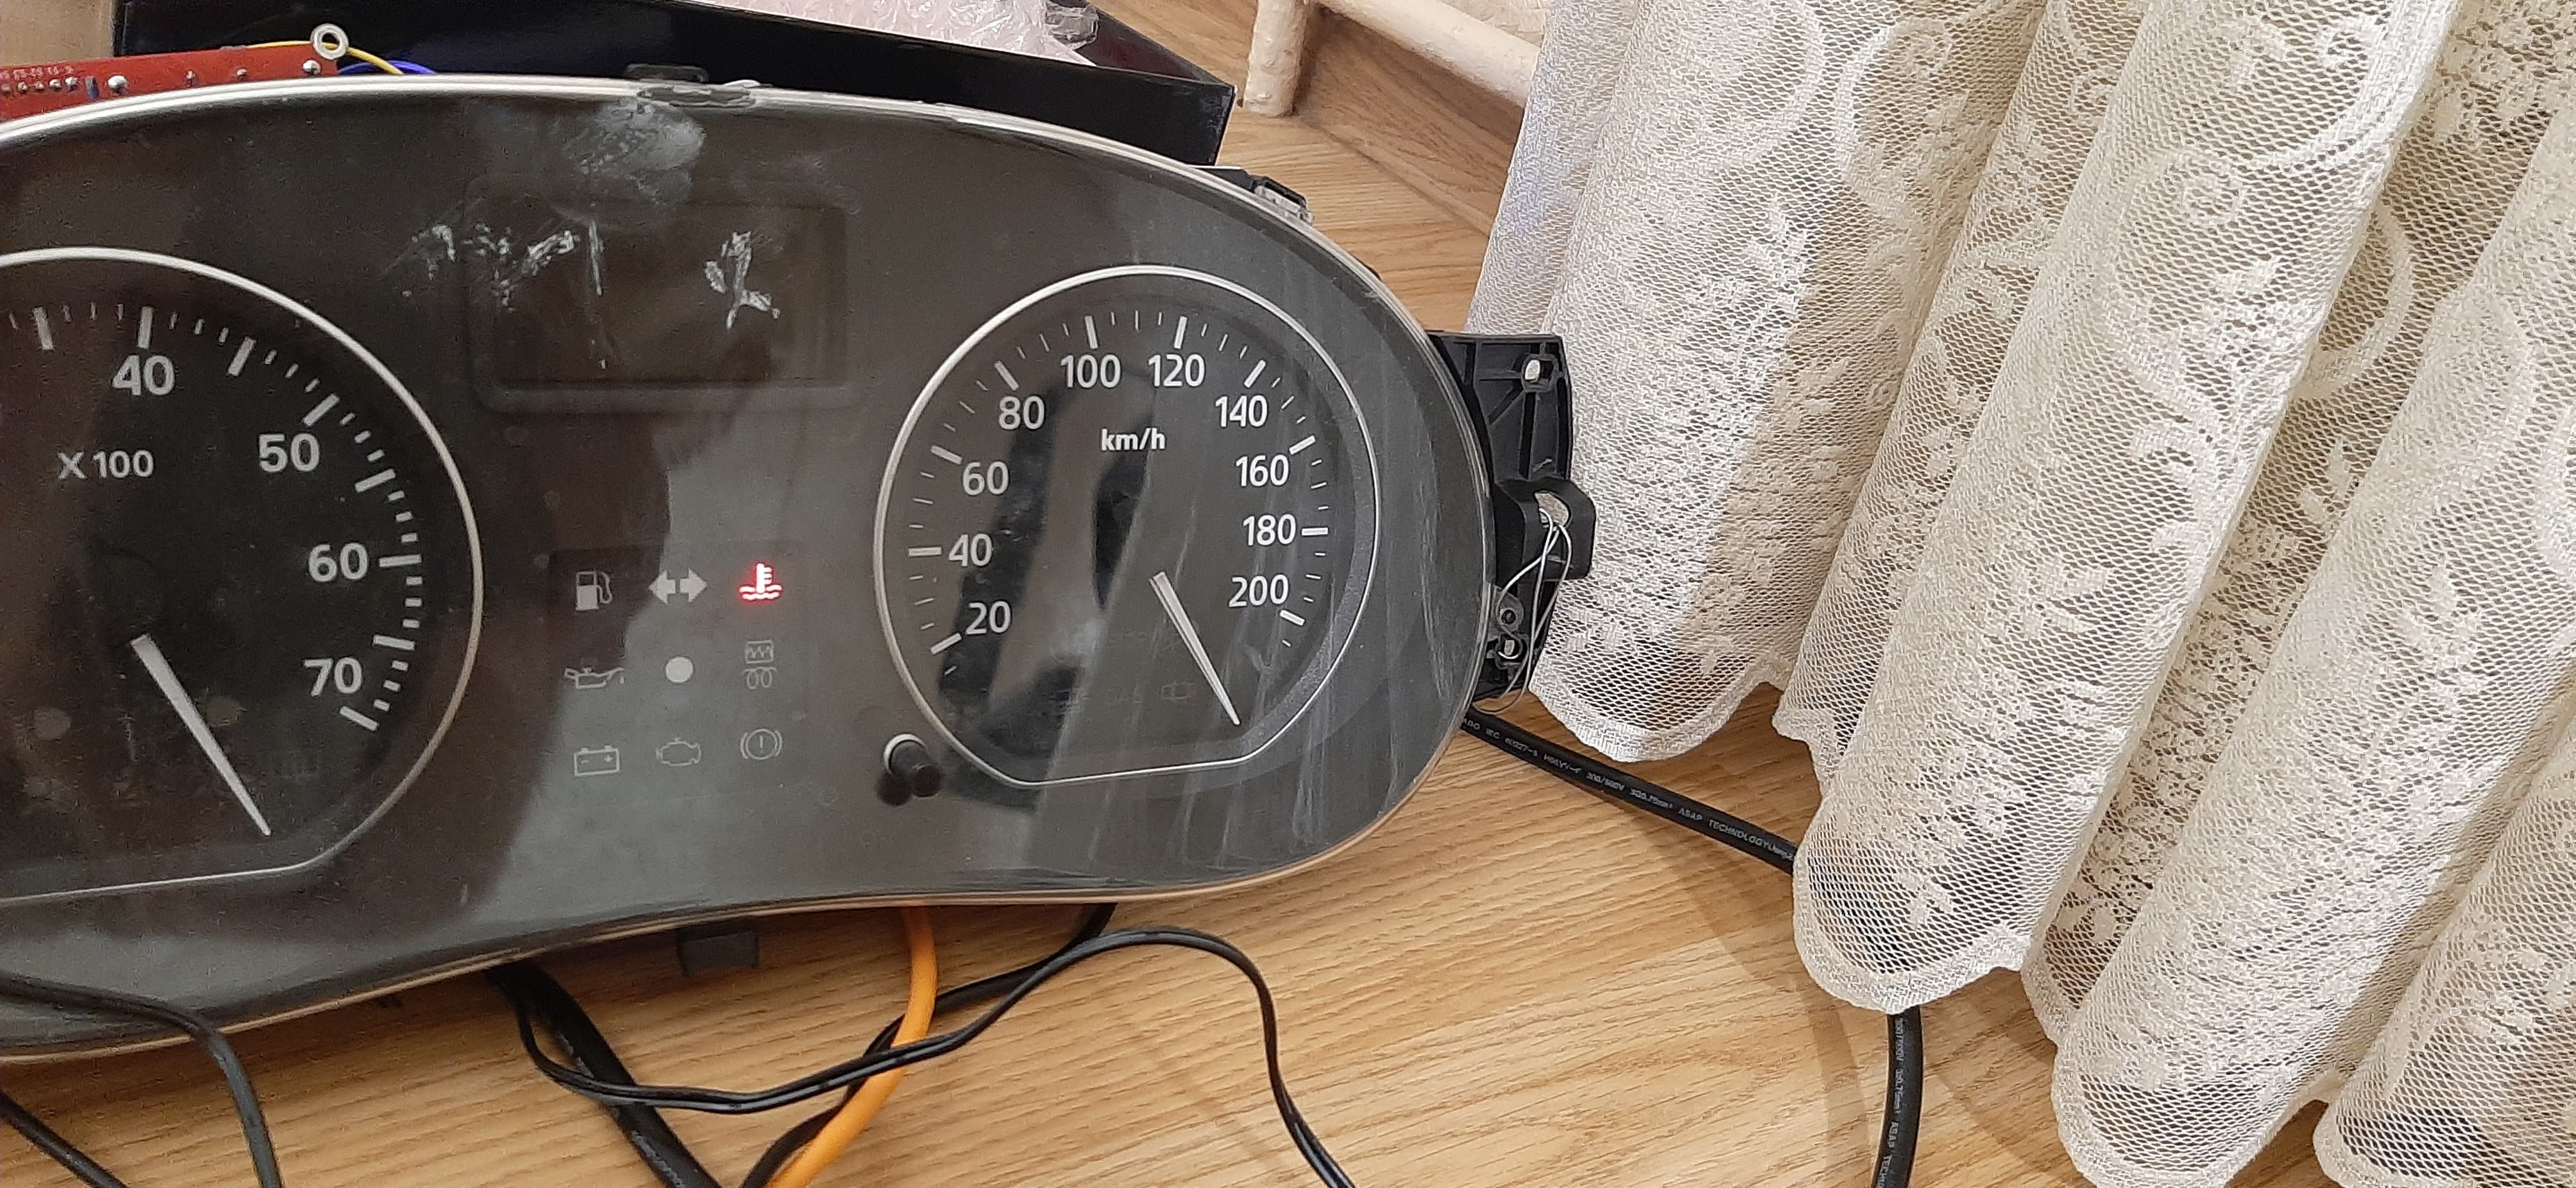Engine Overheating19: (738, 560, 785, 601)
